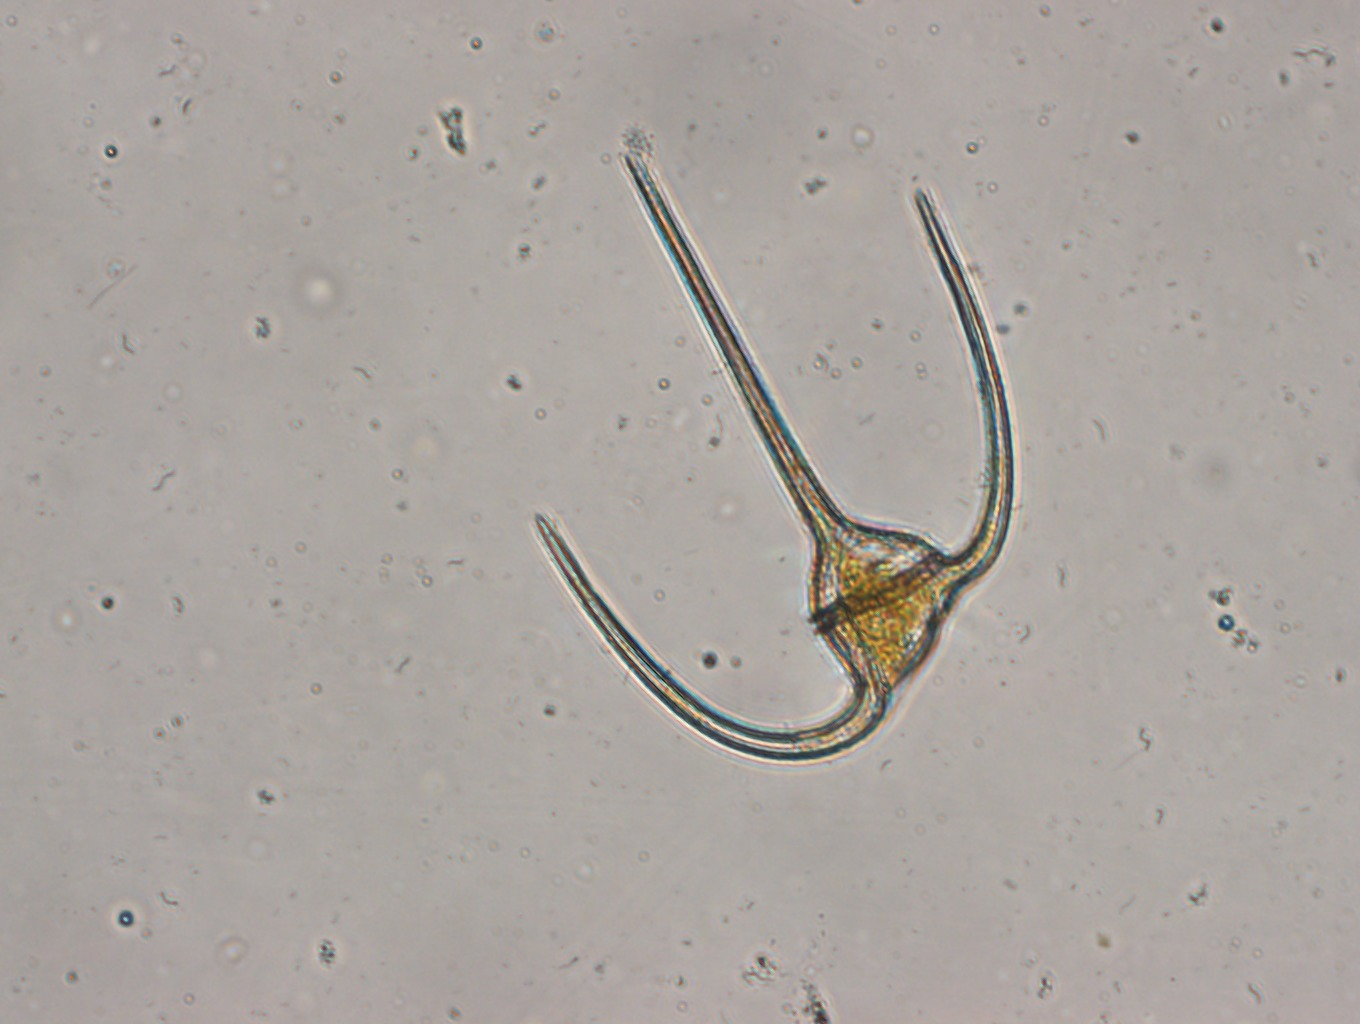ceratium trichoceros: (526, 140, 1023, 773)
